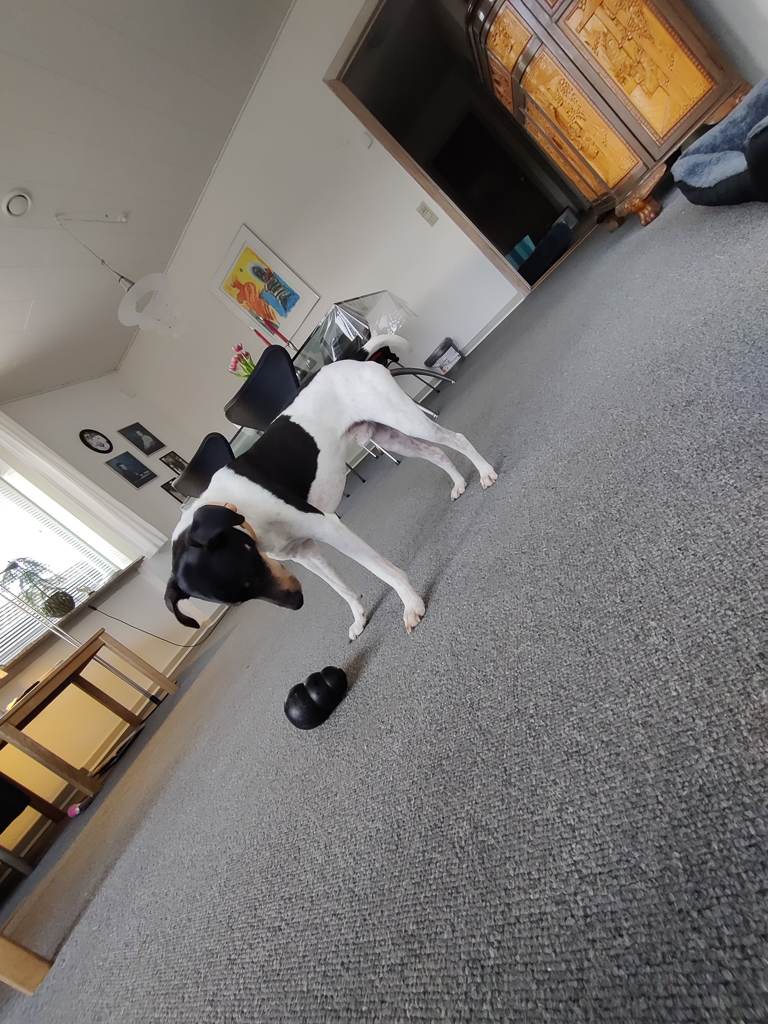Dog: (157, 318, 516, 657)
